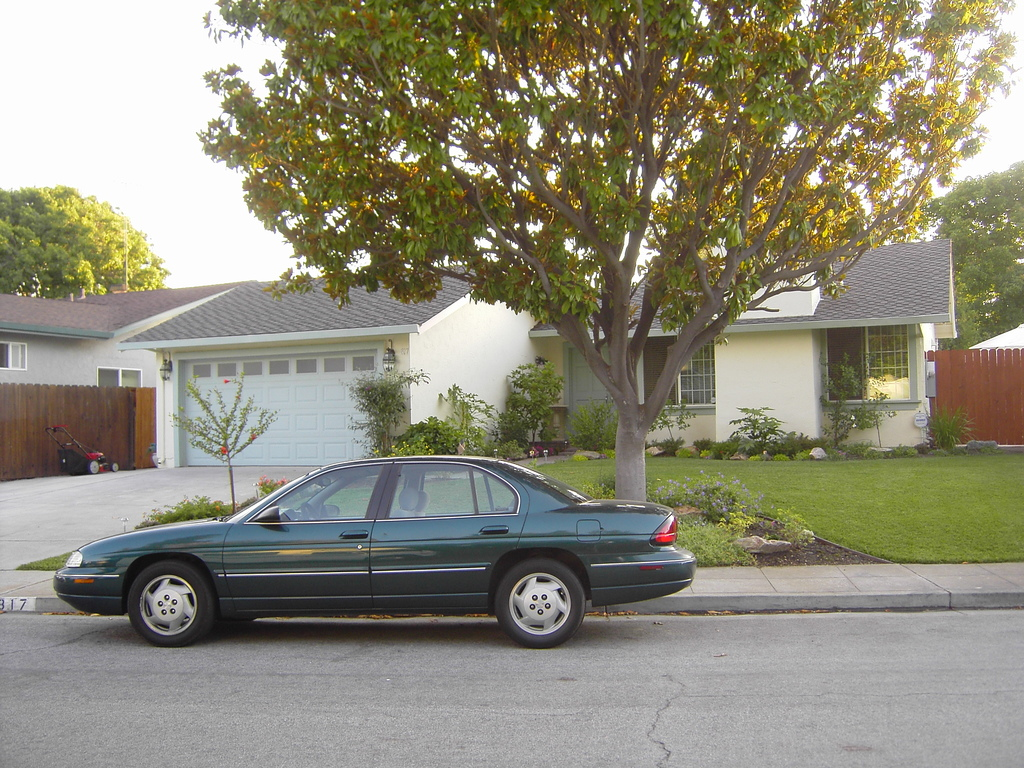Car: (56, 458, 694, 653)
